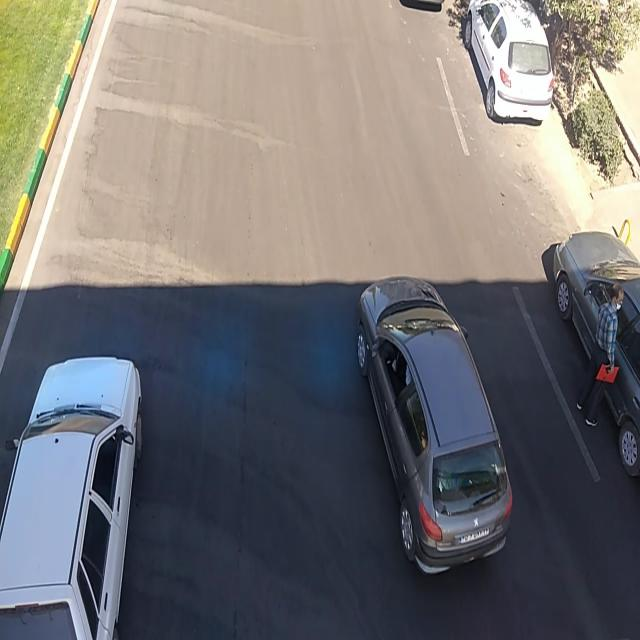car: (356, 281, 512, 579), (3, 353, 141, 634), (550, 228, 636, 477), (460, 1, 554, 126)
